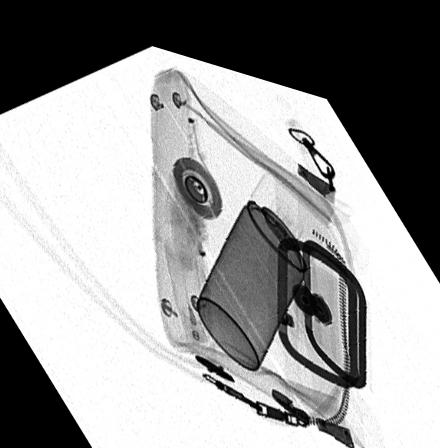Sprayer: (197, 157, 323, 357)
